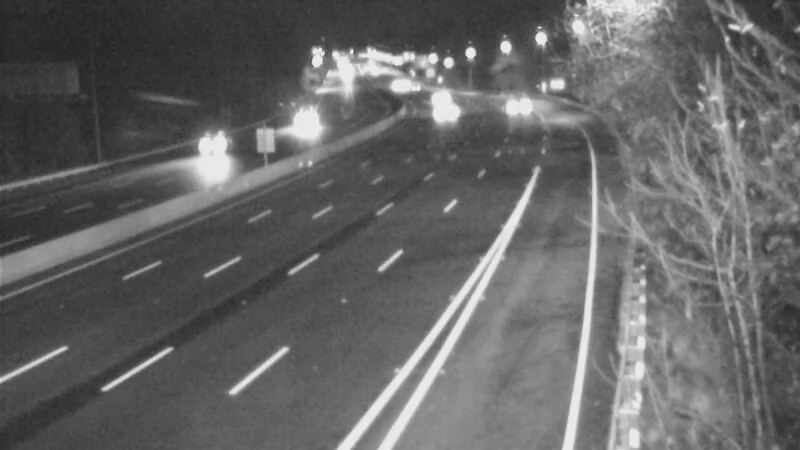vehicle: (372, 64, 422, 114), (393, 60, 443, 110), (410, 72, 460, 122), (494, 79, 544, 129), (420, 87, 470, 137), (182, 123, 232, 173), (272, 101, 322, 151)
